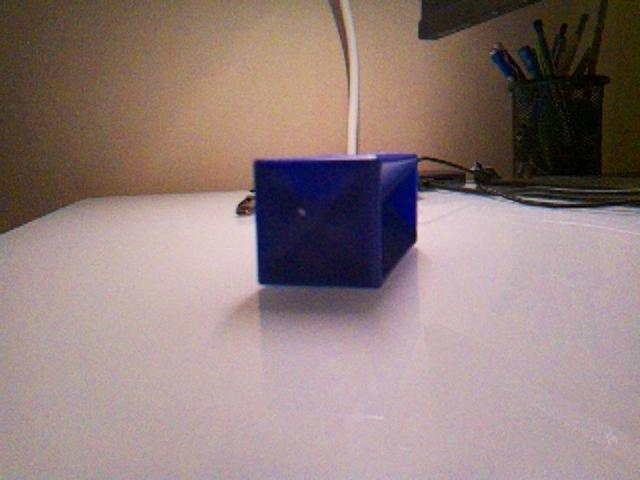blue: (251, 151, 420, 290)
